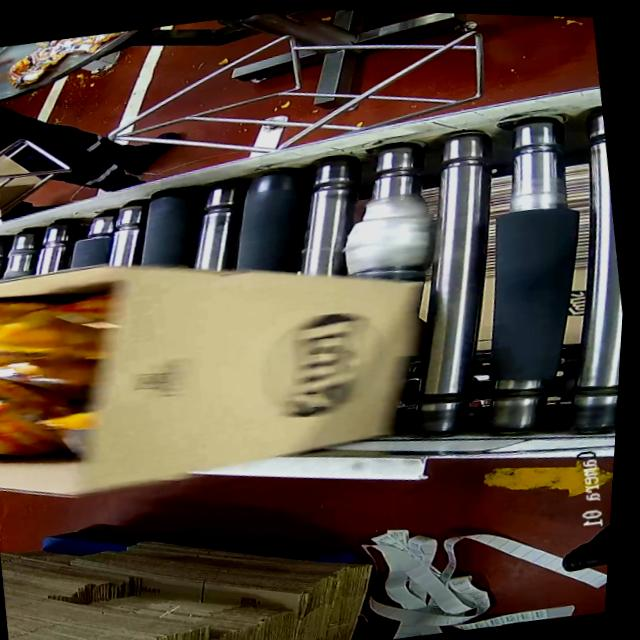FRENCH_CHEESE: (0, 273, 138, 494)
